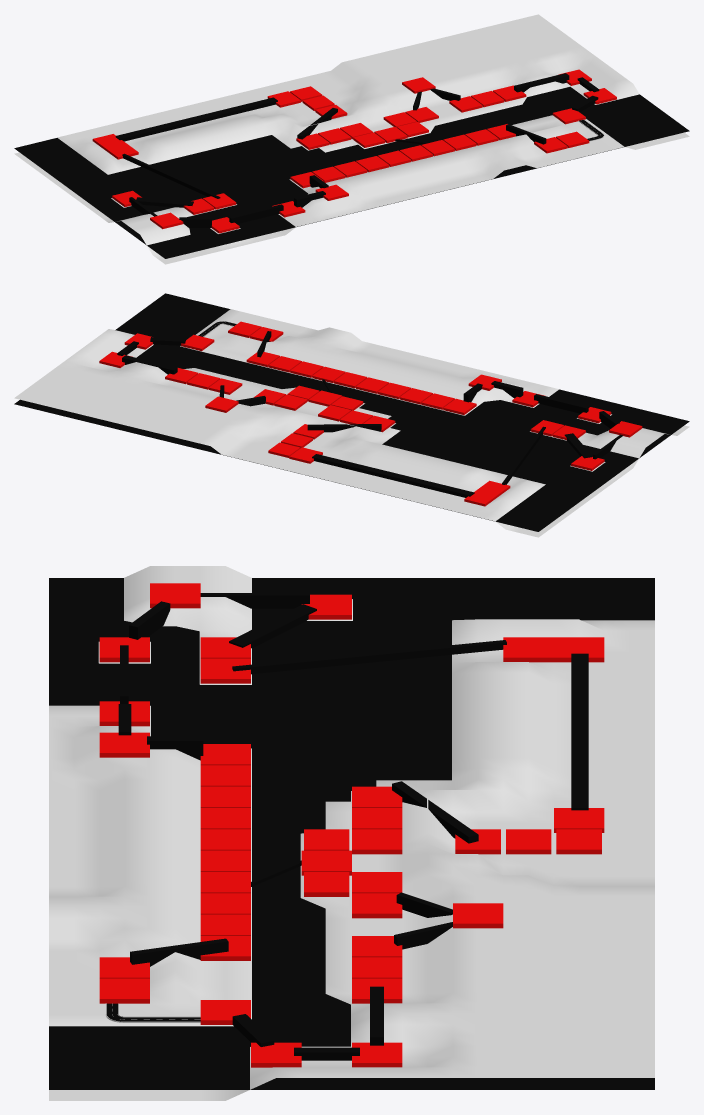
The model's file is map1.fbx.
3 views of the same model, one above another, from view 1: azimuth 30°, elevation 25°; view 2: azimuth 150°, elevation 25°; view 3: azimuth 270°, elevation 25° (orthographic). The views are drawn at different scales.
Parts seen in each view (by area): view 1: Plane001, Plane002, Box055, Box065, Box051, Box054, Box059; view 2: Plane001, Plane002, Box055, Box051, Box056; view 3: Plane001, Plane002, Box055, Box065, Box054, Box062, Box015, Box020, Box036, Box056, Box002, Box009 (+42 smaller).
Boxes of the visible parts, x1,y1,x2,y2 form: Plane001: (14,14,689,264); Plane002: (14,86,689,258); Box055: (115,97,277,141); Box065: (122,153,220,198); Box051: (229,204,283,223); Box054: (136,197,193,207); Box059: (514,73,569,92); Plane001: (14,309,689,537); Plane002: (14,293,689,531); Box055: (312,454,474,497); Box051: (534,394,588,413); Box056: (307,424,381,432); Plane001: (49,566,654,1100); Plane002: (49,578,654,1089); Box055: (571,653,588,810); Box065: (232,640,506,674); Box054: (229,604,316,648); Box062: (130,938,228,966); Box015: (352,829,402,854); Box020: (99,978,149,1003); Box036: (453,903,503,928); Box056: (392,781,478,843); Box002: (503,637,553,662); Box009: (99,732,149,757).
Size of the model in its own units: 480 by 13.59 by 240.
